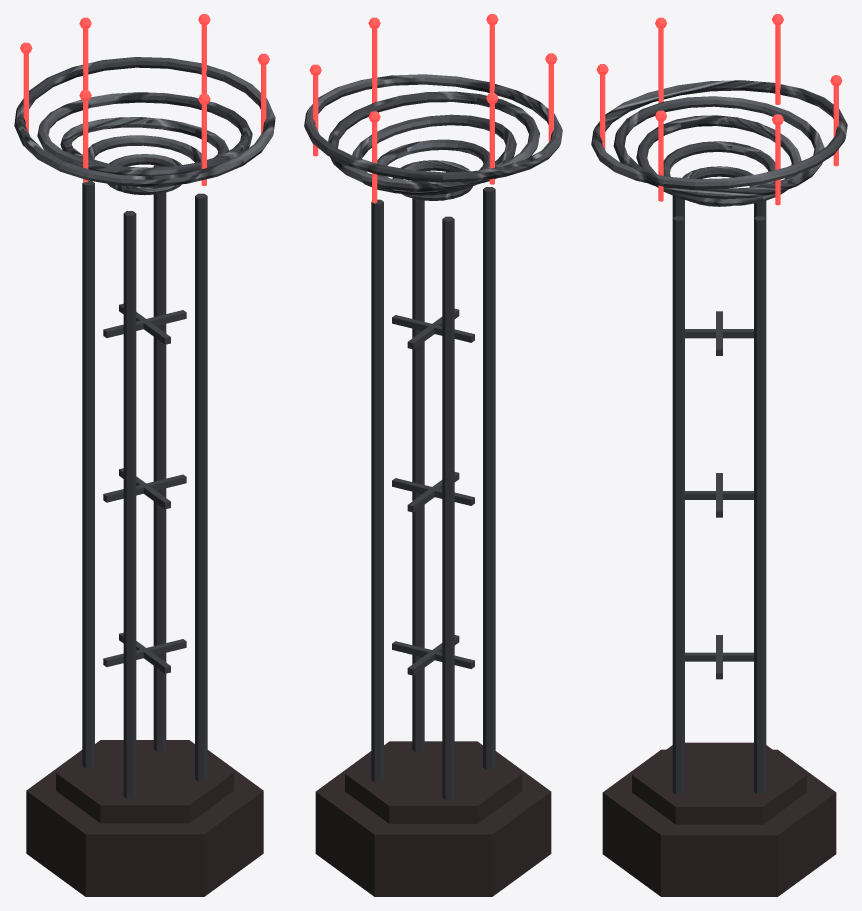
The model's file is crimson_coil_tower.glb.
3 renders of one model, left to right at view 1: azimuth 30°, elevation 25°; view 2: azimuth 150°, elevation 25°; view 3: azimuth 270°, elevation 25°, orthographic.
Parts seen in each view (by area): view 1: CrimsonCoilTower; view 2: CrimsonCoilTower; view 3: CrimsonCoilTower.
Part boxes in pixels (bbox=[...]): CrimsonCoilTower: bbox=[14, 14, 275, 896]; CrimsonCoilTower: bbox=[304, 14, 562, 896]; CrimsonCoilTower: bbox=[591, 14, 847, 896].
Bounding box in the file's own units: 1.58 × 5.42 × 1.58.
Materials: 3 (3 with a texture image).
